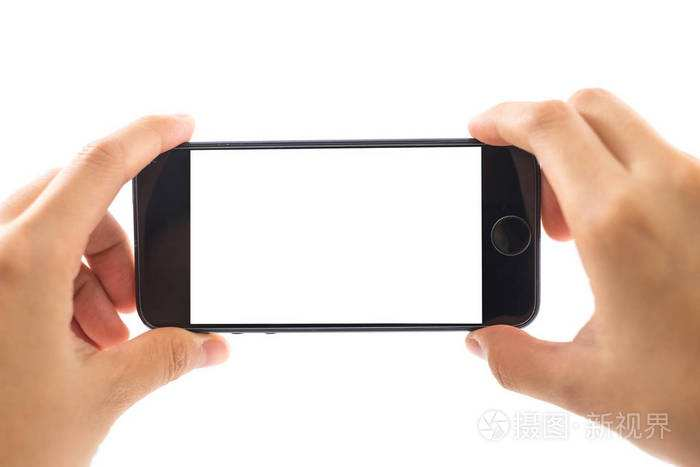phone: (3, 78, 700, 462)
